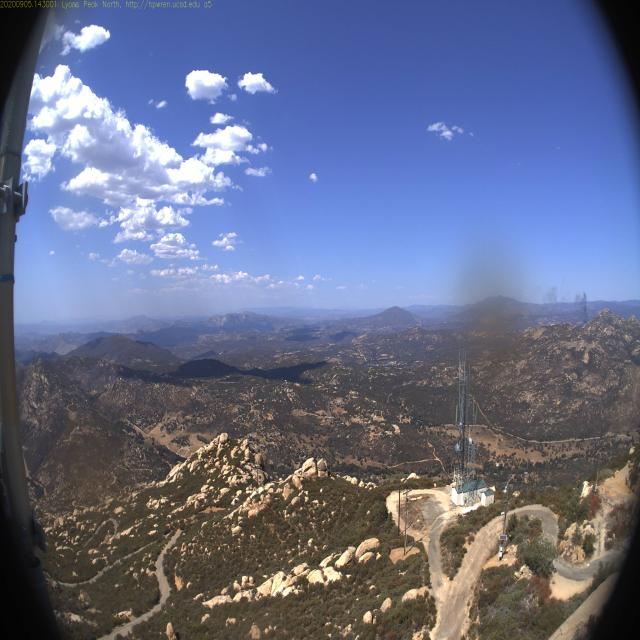smoke: (541, 281, 593, 324)
